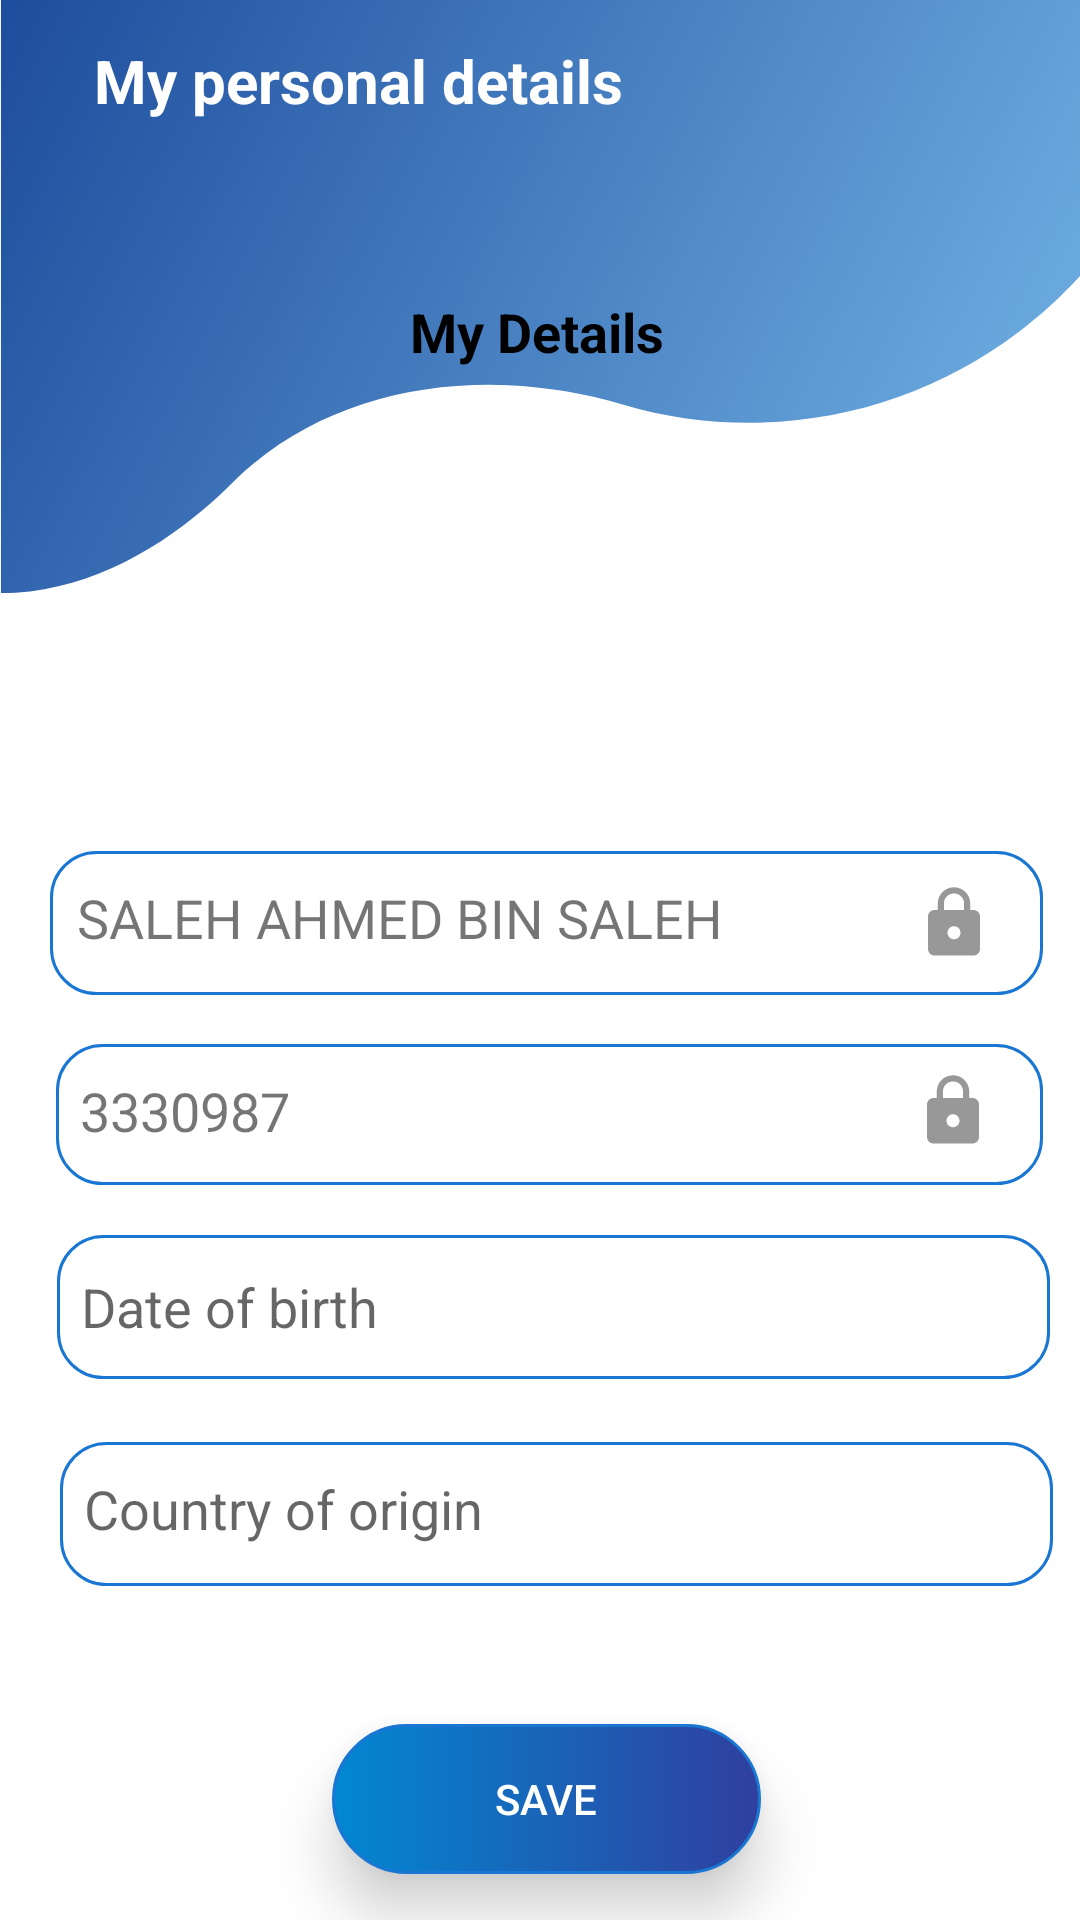

Icons on this 1080w x 1920h Android screen, each with the point to tap as (x,y):
lock: (954,921), (953,1109)
